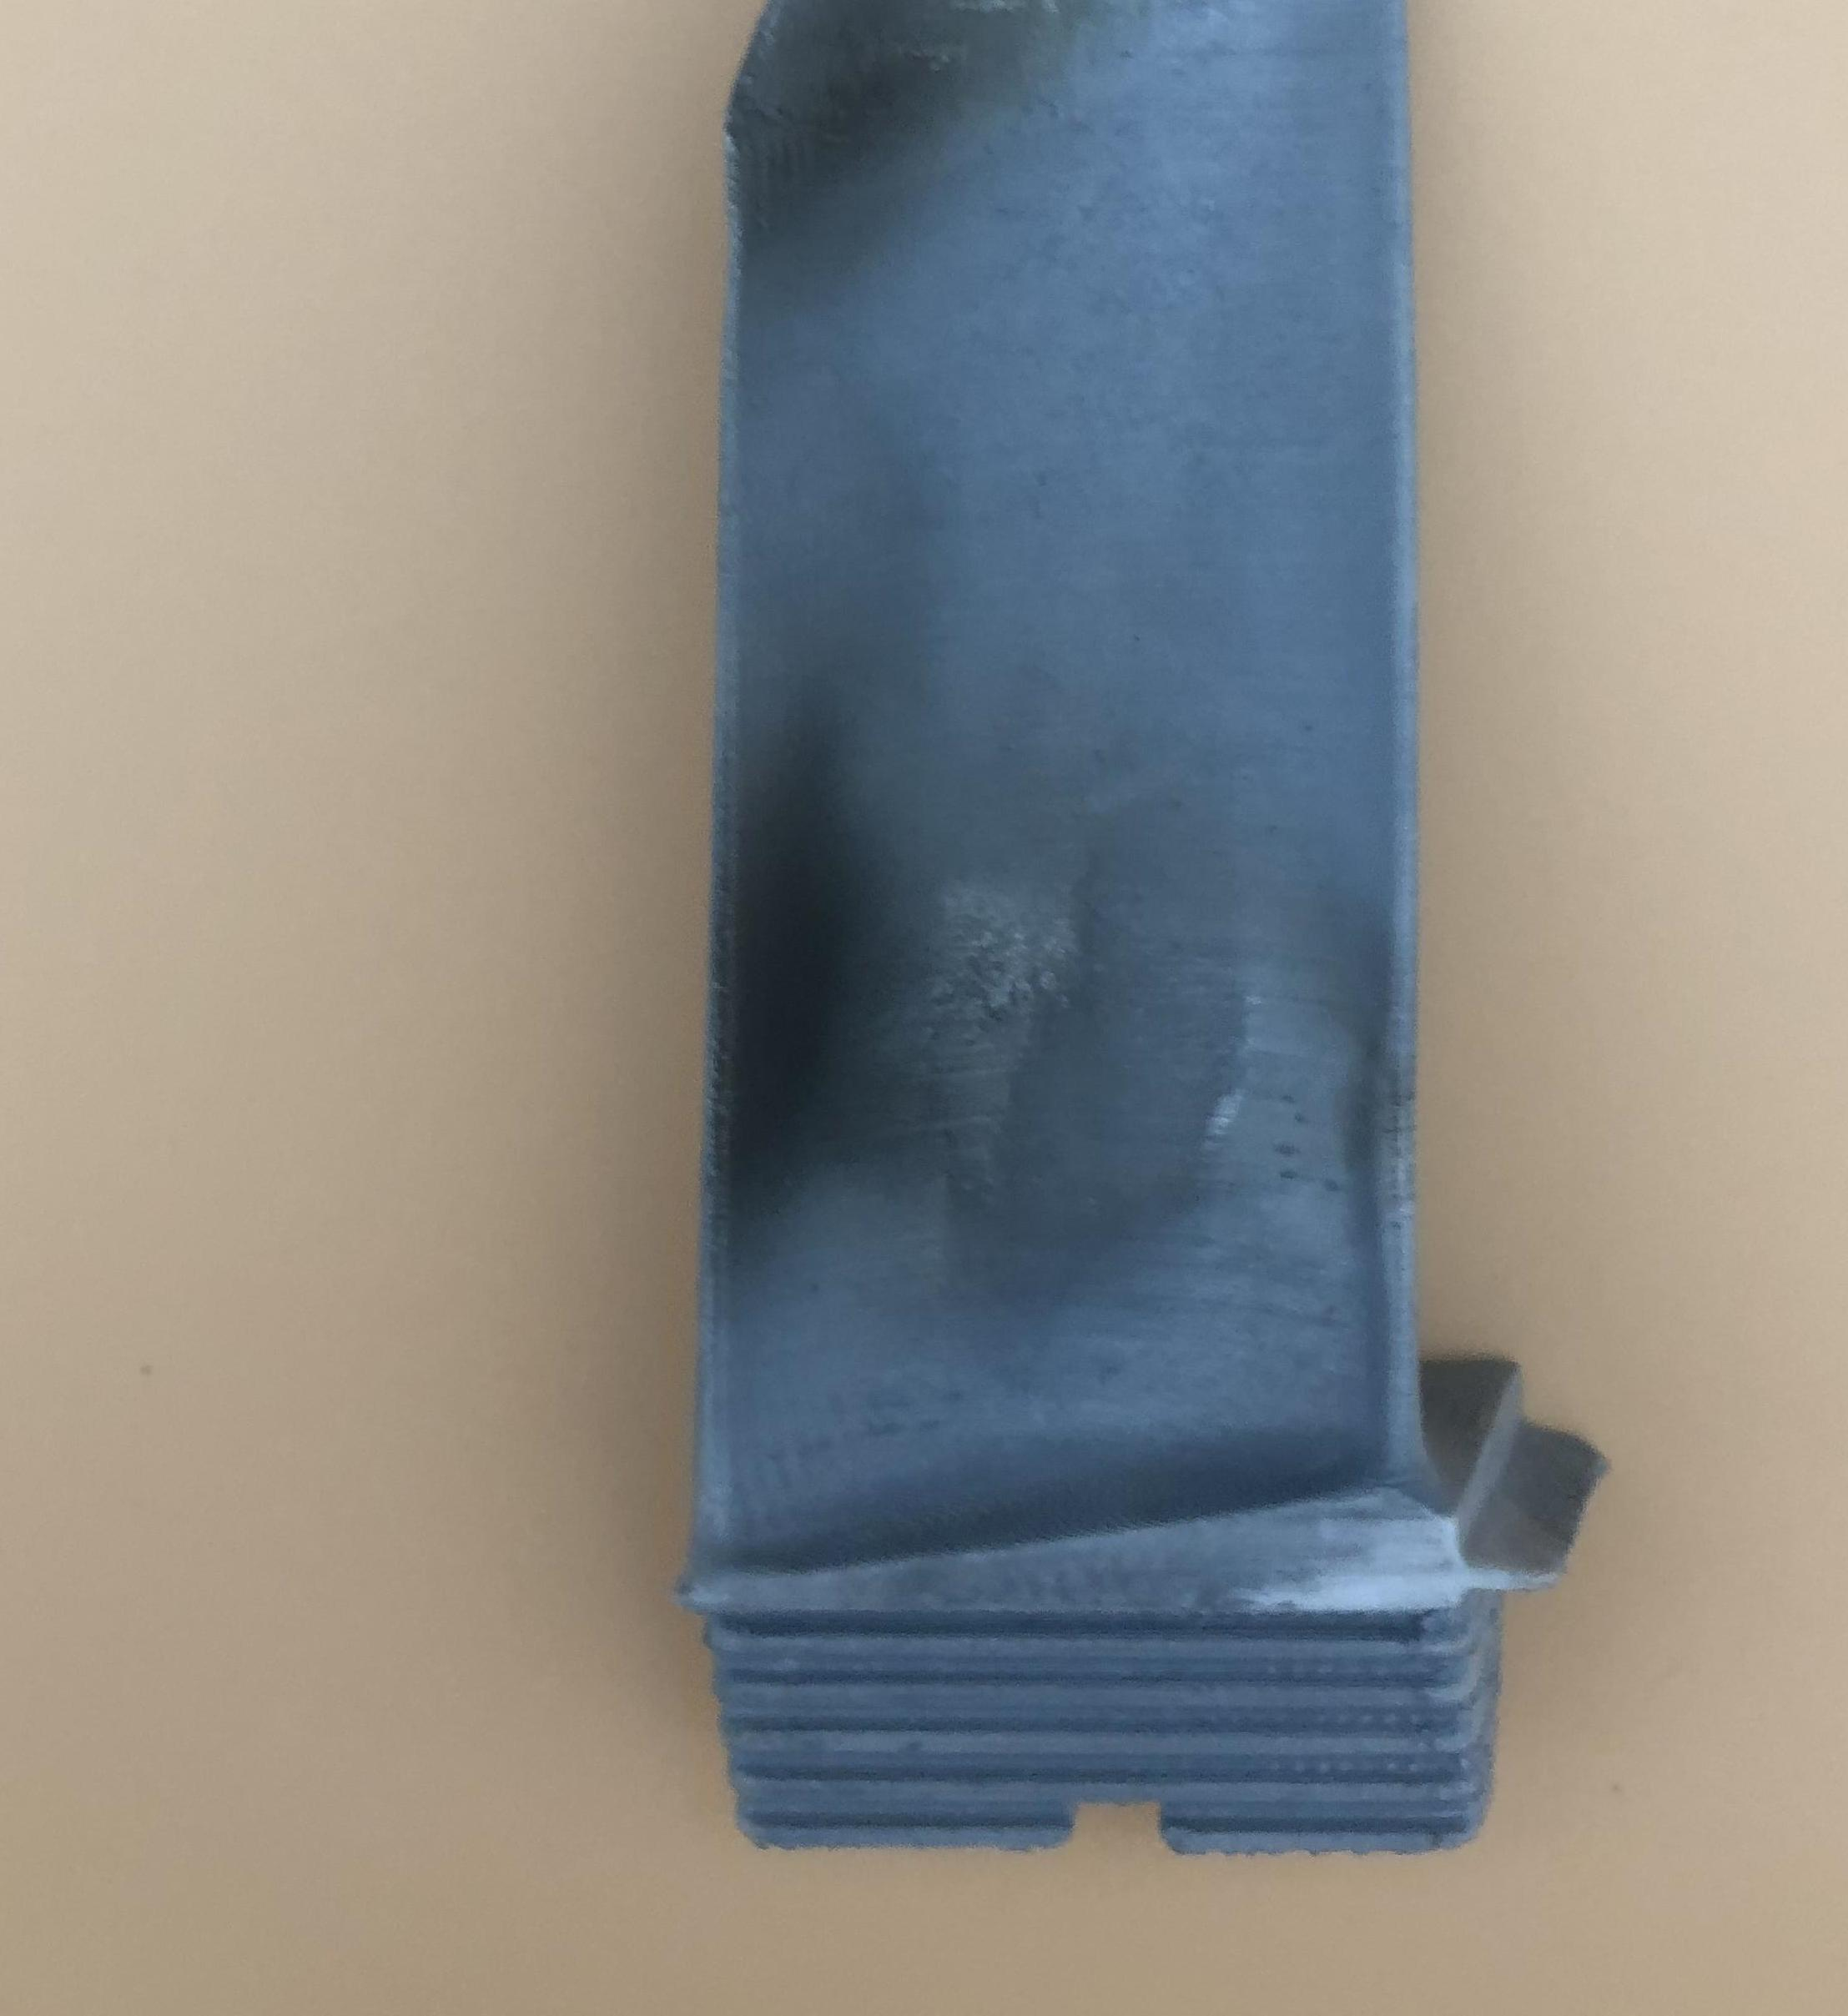ablation: (722, 815, 1014, 1220), (775, 25, 1047, 212)
